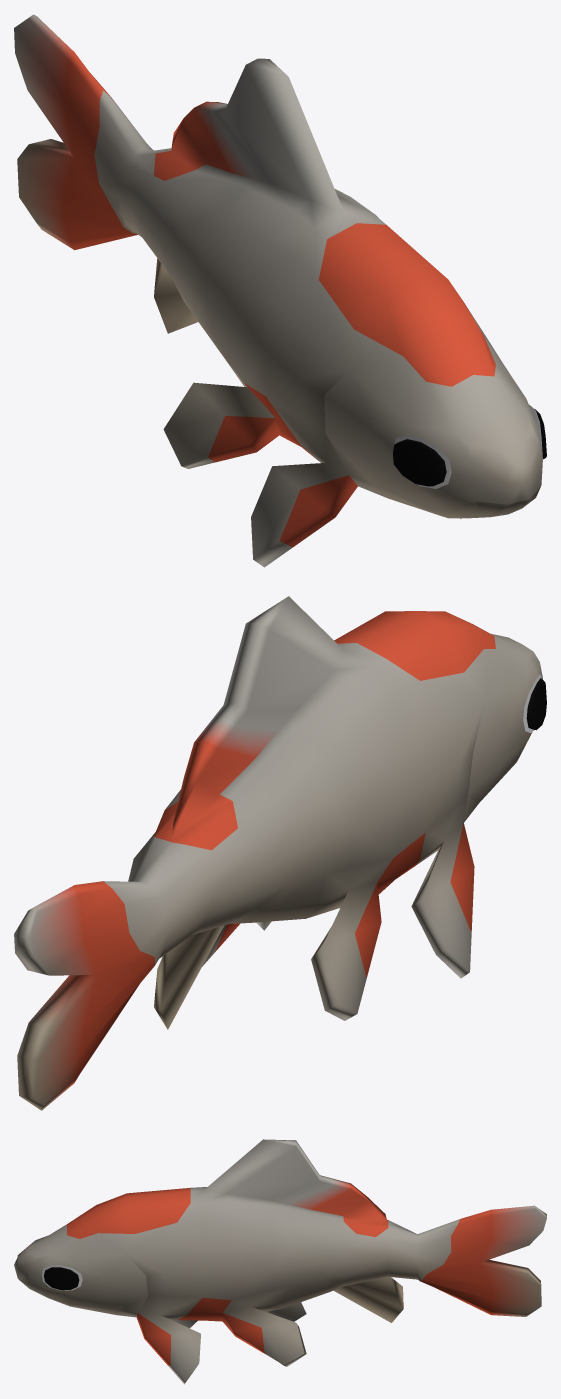
3 views of the same model, one above another, from view 1: azimuth 30°, elevation 25°; view 2: azimuth 150°, elevation 25°; view 3: azimuth 270°, elevation 25° (orthographic). The views are drawn at different scales.
Parts seen in each view (by area): view 1: base.824; view 2: base.824; view 3: base.824.
Part boxes in pixels (left/top/right/bottom): base.824: left=14, top=14, right=546, bottom=567; base.824: left=14, top=596, right=546, bottom=1110; base.824: left=14, top=1139, right=546, bottom=1384.
Bounding box in the file's own units: 0.125 × 0.2273 × 0.5.
